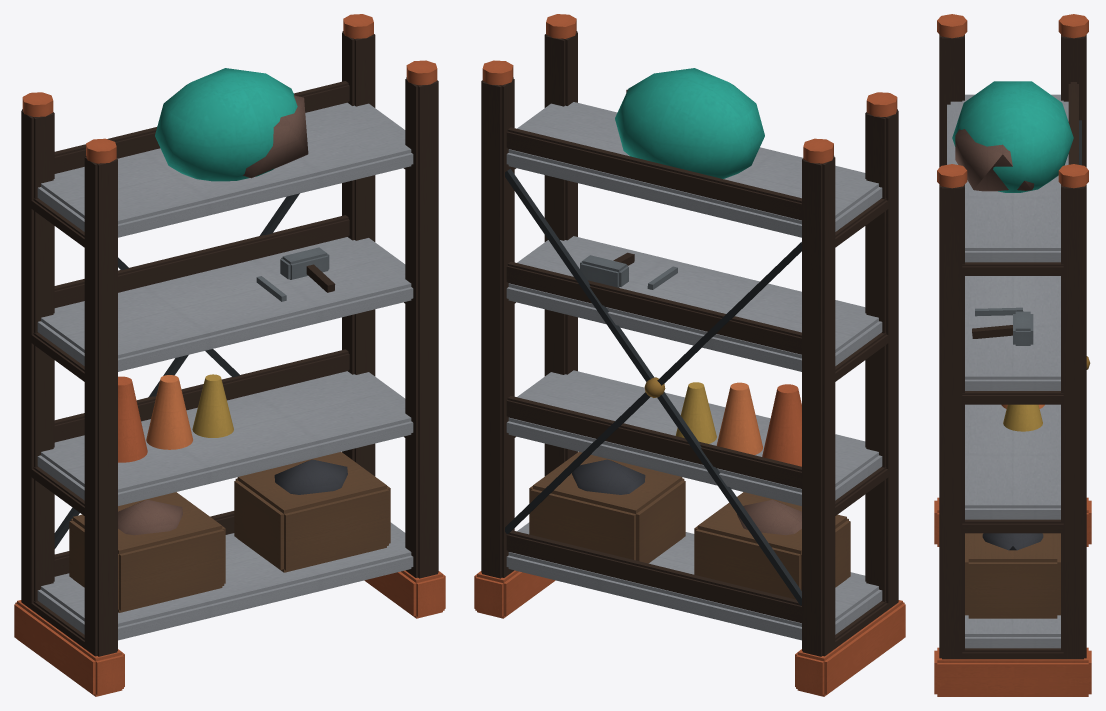
The model's file is shelf_mason_tools.glb.
3 renders of one model, left to right at view 1: azimuth 30°, elevation 25°; view 2: azimuth 150°, elevation 25°; view 3: azimuth 270°, elevation 25°, orthographic. The views are drawn at different scales.
Parts seen in each view (by area): view 1: shelf_mason_tools; view 2: shelf_mason_tools; view 3: shelf_mason_tools.
Part boxes in pixels (box(x1,y1,x2,y2)): shelf_mason_tools: box(14, 14, 445, 696); shelf_mason_tools: box(474, 14, 905, 696); shelf_mason_tools: box(934, 14, 1091, 696).
Bounding box in the file's own units: 1.54 × 2.3 × 0.62.
1 material, 1 textured.
